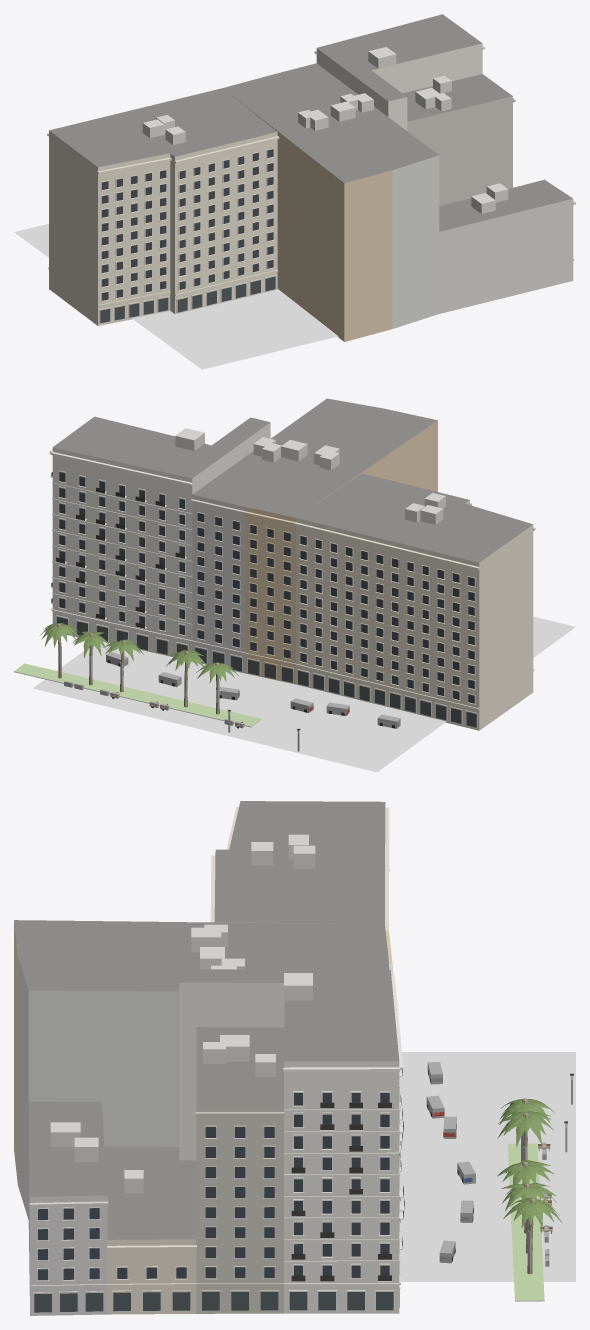
Rendered from chunk_02_01.glb.
3 views of the same model, one above another, from view 1: azimuth 30°, elevation 25°; view 2: azimuth 150°, elevation 25°; view 3: azimuth 270°, elevation 25° (orthographic). The views are drawn at different scales.
Visible parts, largest first — view 1: chunk_02_01_LOD0; view 2: chunk_02_01_LOD0, chunk_02_01_COL; view 3: chunk_02_01_LOD0, chunk_02_01_COL.
Part boxes in pixels (bbox=[...]): chunk_02_01_LOD0: bbox=[14, 14, 575, 369]; chunk_02_01_LOD0: bbox=[14, 398, 575, 772]; chunk_02_01_COL: bbox=[58, 646, 400, 751]; chunk_02_01_LOD0: bbox=[14, 801, 575, 1315]; chunk_02_01_COL: bbox=[426, 1062, 572, 1273].
Size of what is drawn, in the model's own units: 99.79 by 43.3 by 82.57.
